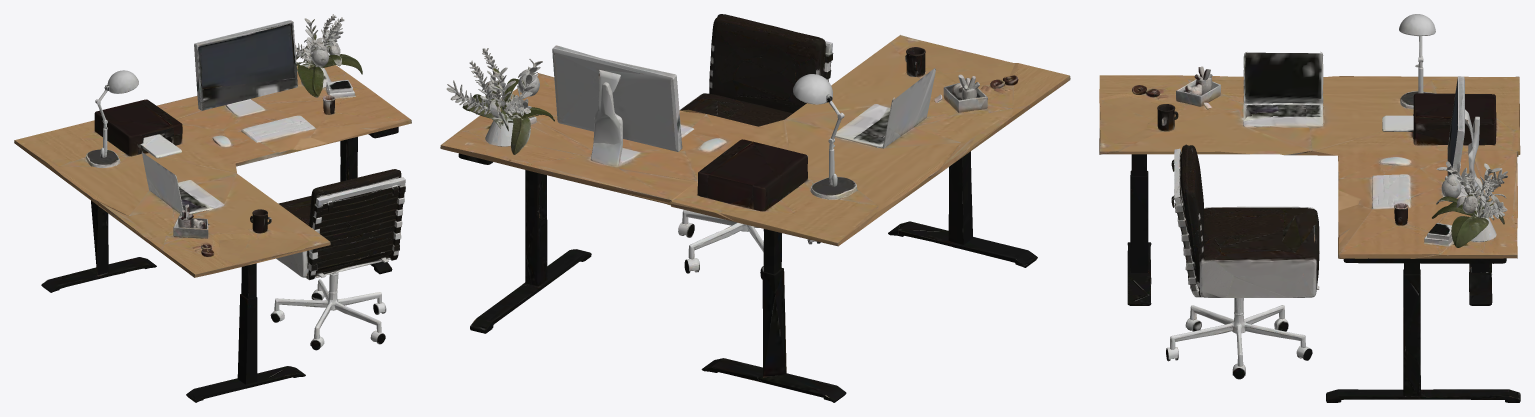
The model's file is officedepot-com-a-products-8090499-flexispot-e7l-76w-l-shape-05b479.glb.
3 renders of one model, left to right at view 1: azimuth 30°, elevation 25°; view 2: azimuth 150°, elevation 25°; view 3: azimuth 270°, elevation 25°, orthographic. The views are drawn at different scales.
Parts seen in each view (by area): view 1: Mesh_0; view 2: Mesh_0; view 3: Mesh_0.
Part boxes in pixels (left/top/right/bottom): Mesh_0: left=14, top=14, right=411, bottom=402; Mesh_0: left=440, top=14, right=1070, bottom=402; Mesh_0: left=1099, top=14, right=1520, bottom=402.
Bounding box in the file's own units: 1.9 × 1.28 × 1.86.
1 material, 1 textured.
